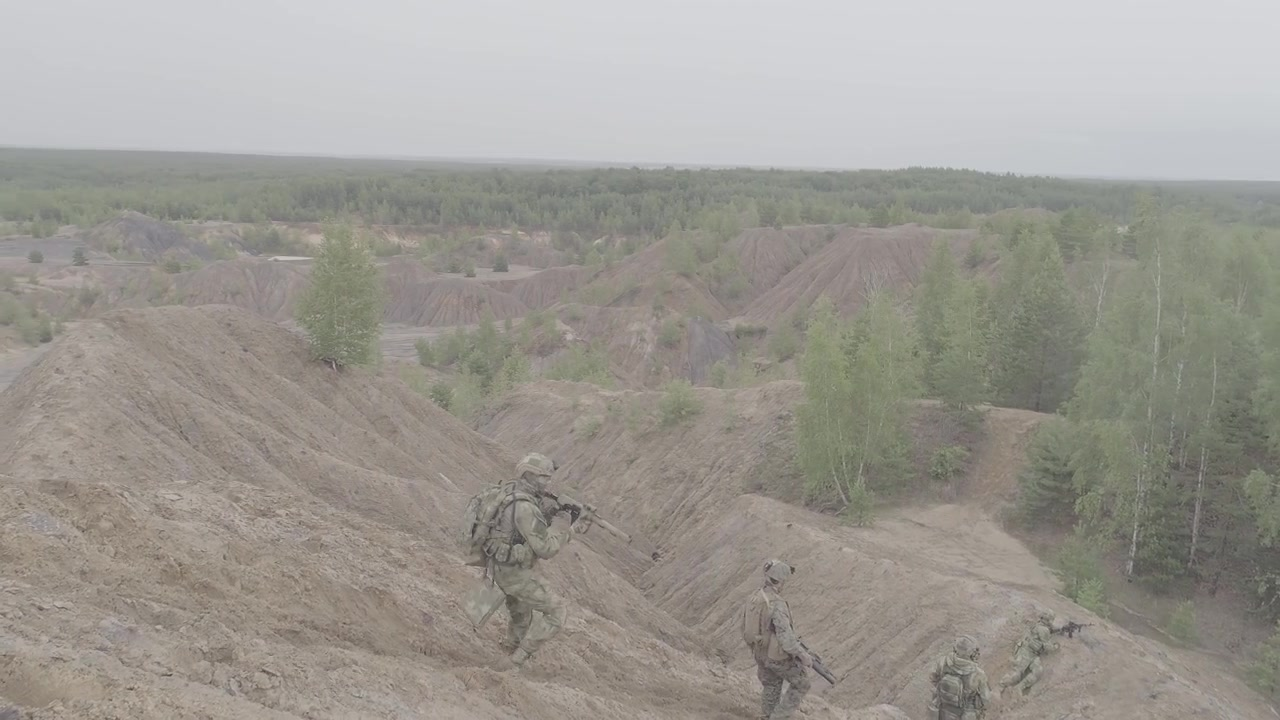person: (473, 447, 581, 669), (720, 553, 813, 719)
